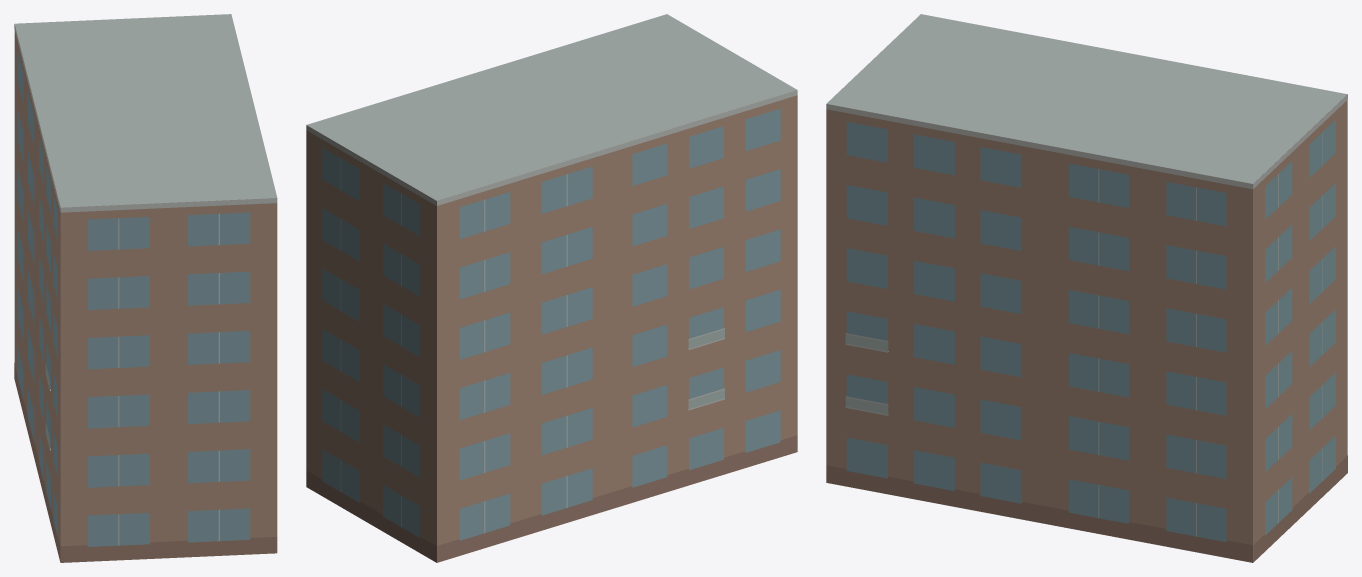
File: survey-upis-32981865.glb
The picture shows the model from 3 angles, left to right: view 1: azimuth 30°, elevation 25°; view 2: azimuth 150°, elevation 25°; view 3: azimuth 270°, elevation 25°; orthographic projection. The views are drawn at different scales.
Parts seen in each view (by area): view 1: survey-upis-32981865.tmp; view 2: survey-upis-32981865.tmp; view 3: survey-upis-32981865.tmp.
Part boxes in pixels (bbox=[...]): survey-upis-32981865.tmp: bbox=[14, 14, 277, 562]; survey-upis-32981865.tmp: bbox=[306, 14, 797, 562]; survey-upis-32981865.tmp: bbox=[826, 14, 1347, 562].
Bounding box in the file's own units: 16.56 × 17.2 × 21.46.
